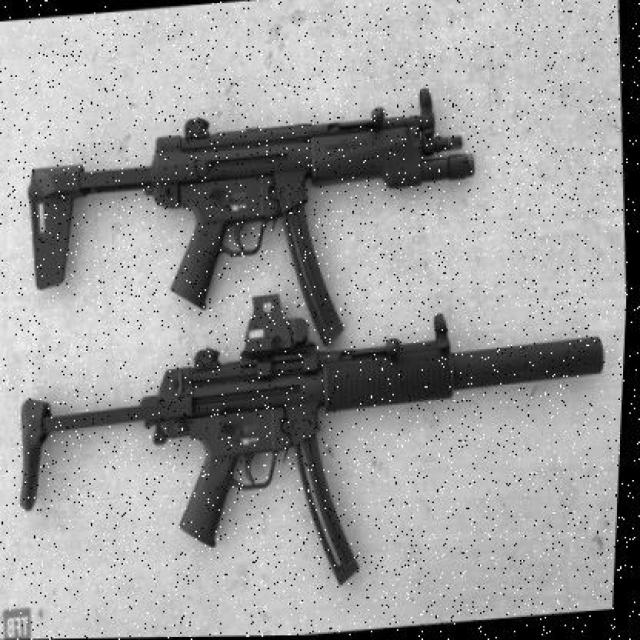weapon: (18, 294, 607, 591), (27, 87, 478, 349)
